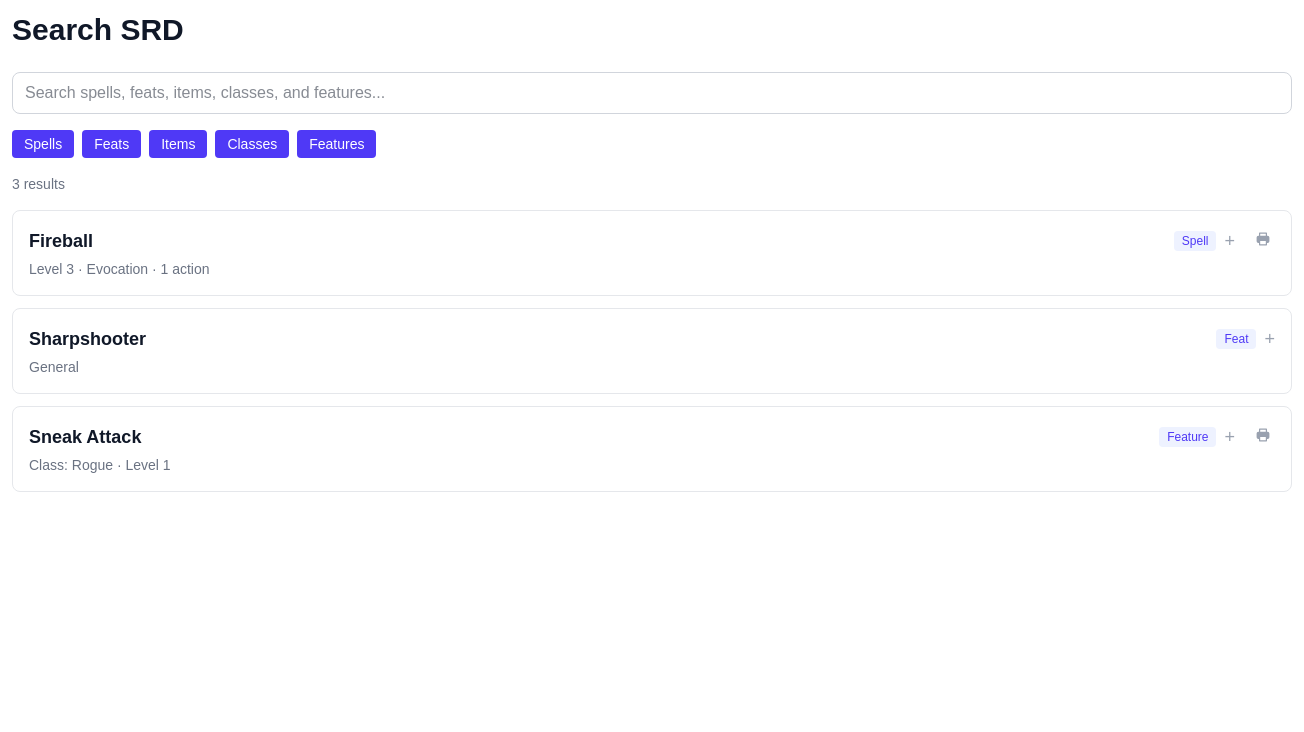
Test case: SrdSearchPage › expand on click — feature › shows feature description and a parent drilldown link when expanded
What coordinates should you click on to do the following:
click the heading "Sneak Attack"
I would click on:
 (85, 437)
Its box is [29,427,141,447].
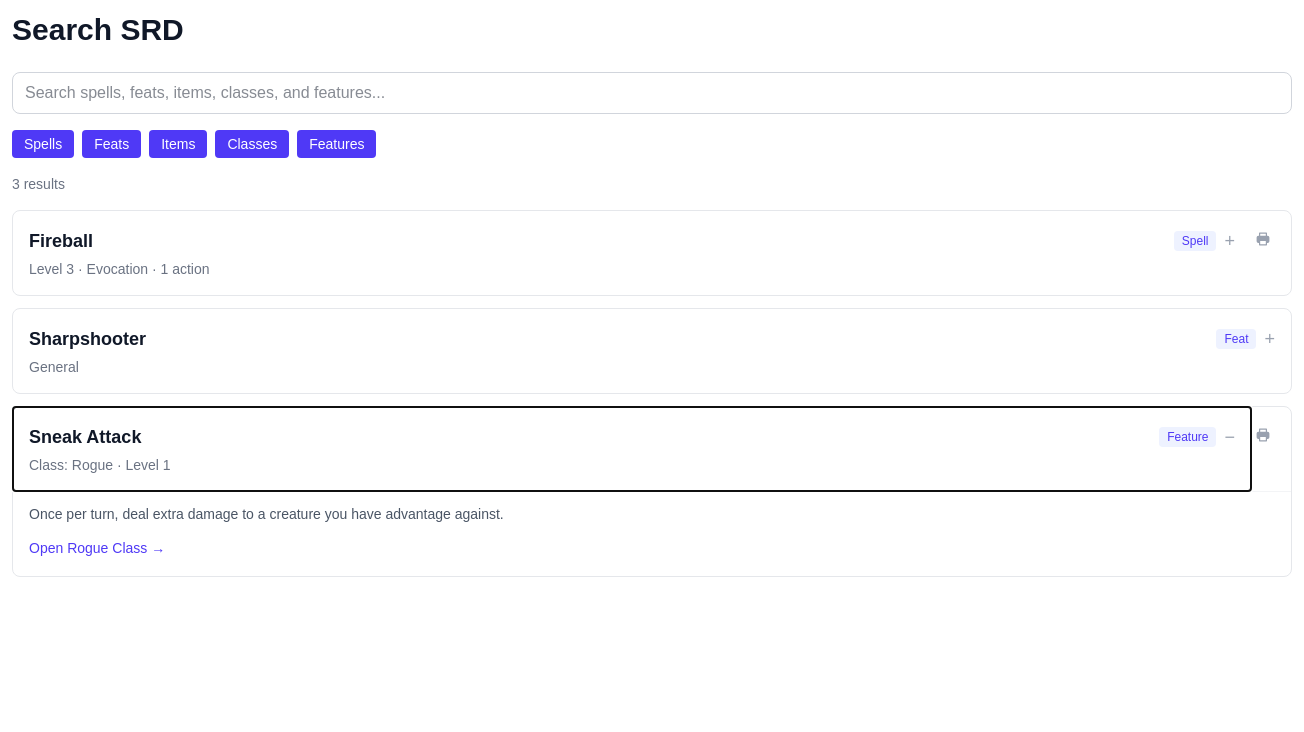
Expected: the text "Once per turn, deal extra damage" is shown, [29,506,504,522]
